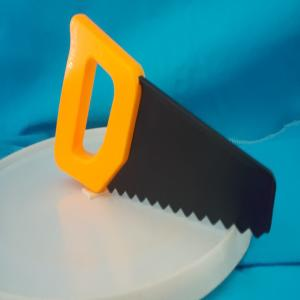serrote: (53, 12, 277, 239)
